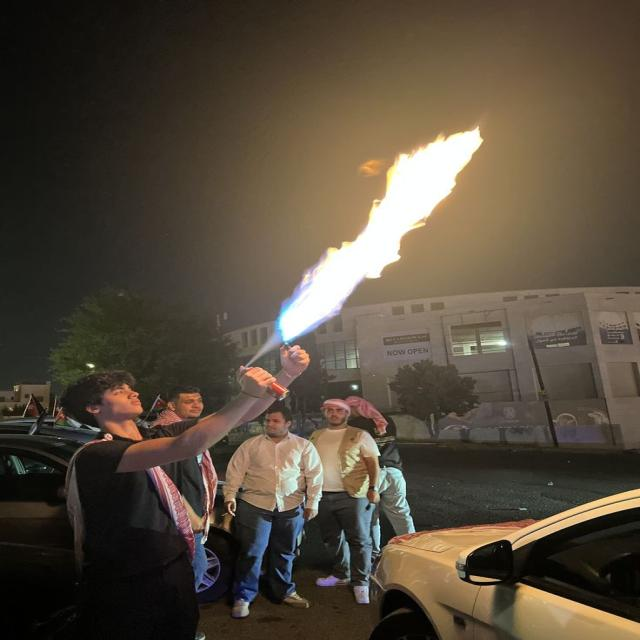fire: (276, 128, 484, 344)
